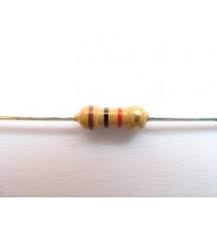resistor: (68, 98, 161, 145)
